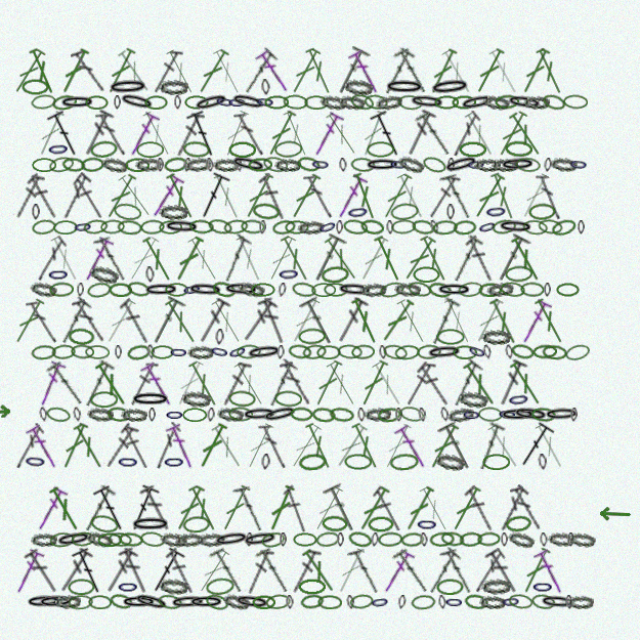chain: (444, 149, 481, 172), (431, 75, 472, 95), (200, 89, 237, 111), (141, 577, 178, 599), (127, 89, 164, 110), (236, 89, 273, 110), (236, 150, 273, 171), (267, 394, 304, 415), (460, 90, 497, 110), (117, 76, 157, 94), (66, 517, 102, 536), (220, 517, 256, 536), (248, 517, 284, 536), (98, 257, 129, 279), (506, 91, 542, 109), (252, 335, 288, 353), (240, 579, 276, 597), (387, 77, 427, 93), (139, 382, 179, 398), (139, 504, 179, 520), (99, 501, 129, 522), (436, 441, 467, 461), (411, 91, 447, 108), (512, 396, 548, 413), (399, 150, 428, 171), (122, 197, 151, 217), (428, 336, 464, 352), (212, 563, 242, 582), (195, 275, 230, 291), (341, 275, 376, 291), (507, 517, 535, 537), (178, 580, 213, 596), (539, 580, 574, 596), (99, 136, 128, 155), (347, 76, 377, 94), (549, 212, 576, 232), (459, 381, 489, 399), (258, 197, 286, 216), (393, 197, 421, 216), (95, 517, 123, 536), (229, 578, 257, 597), (500, 153, 535, 168), (172, 214, 207, 229), (498, 214, 533, 229), (230, 275, 265, 290), (248, 397, 283, 412), (543, 397, 578, 412), (37, 580, 72, 595), (49, 580, 84, 595), (392, 442, 421, 460), (540, 90, 566, 110), (423, 151, 449, 171), (382, 273, 408, 293), (563, 334, 589, 354), (211, 578, 237, 598), (505, 502, 532, 521), (378, 91, 406, 109), (190, 137, 218, 155), (110, 152, 138, 170), (325, 259, 353, 277), (448, 396, 476, 414), (303, 442, 331, 460), (190, 503, 218, 521), (59, 151, 85, 170), (268, 151, 294, 170), (214, 212, 240, 231), (401, 395, 427, 414), (189, 381, 218, 398), (167, 564, 196, 581), (482, 564, 511, 581), (70, 93, 105, 107), (368, 154, 403, 168), (152, 276, 187, 290), (438, 276, 473, 290), (500, 398, 535, 412), (130, 581, 165, 595), (196, 581, 231, 595), (353, 90, 378, 109), (301, 151, 326, 170), (135, 273, 160, 292), (218, 273, 243, 292), (409, 273, 434, 292), (510, 334, 535, 353), (351, 517, 376, 536), (118, 578, 143, 597), (62, 91, 88, 109), (96, 274, 122, 292), (296, 274, 322, 292), (385, 335, 411, 353), (56, 396, 82, 414), (165, 579, 191, 597), (167, 77, 196, 93), (167, 199, 196, 215), (482, 321, 511, 337), (280, 137, 307, 154), (505, 137, 532, 154), (192, 152, 219, 169), (528, 198, 555, 215), (505, 259, 532, 276), (41, 274, 68, 291), (244, 274, 271, 291), (487, 274, 514, 291), (78, 320, 105, 337), (303, 320, 330, 337), (235, 381, 262, 398), (280, 381, 307, 398), (277, 213, 302, 231), (413, 213, 438, 231), (429, 274, 454, 292), (135, 335, 160, 353), (266, 518, 291, 536), (438, 321, 466, 337), (42, 213, 68, 230), (346, 213, 372, 230), (326, 503, 352, 520), (148, 518, 174, 535), (33, 77, 60, 93), (324, 92, 351, 108), (342, 92, 369, 108), (483, 92, 510, 108), (145, 138, 172, 154), (235, 138, 262, 154), (370, 138, 397, 154), (460, 138, 487, 154), (302, 214, 329, 230), (415, 260, 442, 276), (363, 275, 390, 291), (100, 382, 127, 398), (348, 443, 375, 459), (483, 443, 510, 459), (168, 519, 195, 535), (183, 519, 210, 535), (205, 519, 232, 535), (567, 519, 594, 535), (78, 565, 105, 581), (303, 565, 330, 581), (438, 565, 465, 581), (42, 91, 67, 108), (171, 152, 196, 169), (93, 213, 118, 230), (230, 213, 255, 230), (363, 213, 388, 230), (492, 213, 517, 230), (537, 213, 562, 230), (459, 274, 484, 291), (500, 274, 525, 291), (81, 518, 106, 535), (271, 579, 296, 596), (508, 579, 533, 596), (530, 579, 555, 596), (321, 212, 343, 231), (477, 212, 499, 231), (233, 334, 255, 353), (467, 334, 489, 353), (371, 504, 397, 520), (350, 198, 373, 216), (507, 381, 530, 399), (367, 91, 391, 108), (293, 335, 317, 352), (307, 335, 331, 352), (116, 396, 140, 413), (320, 518, 344, 535), (442, 518, 466, 535), (305, 579, 329, 596), (353, 579, 377, 596), (465, 579, 489, 596), (549, 153, 576, 168), (400, 92, 425, 108), (354, 153, 379, 169), (515, 153, 540, 169), (126, 214, 151, 230), (434, 214, 459, 230), (522, 214, 547, 230), (42, 336, 67, 352), (397, 336, 422, 352), (541, 336, 566, 352), (333, 397, 358, 413), (530, 397, 555, 413), (60, 519, 85, 535), (127, 519, 152, 535), (78, 580, 103, 596), (413, 580, 438, 596), (485, 198, 508, 215), (35, 442, 58, 459), (144, 153, 170, 168), (397, 275, 423, 290), (97, 397, 123, 412), (224, 397, 250, 412), (368, 397, 394, 412), (547, 519, 573, 534), (65, 580, 91, 595), (72, 153, 96, 169), (454, 214, 478, 230), (316, 397, 340, 413), (380, 397, 404, 413), (117, 519, 141, 535), (403, 519, 427, 535), (288, 92, 313, 107), (196, 214, 221, 229), (341, 336, 366, 351), (431, 519, 456, 534), (58, 137, 80, 154), (283, 259, 305, 276), (523, 93, 549, 107), (220, 154, 246, 168), (280, 154, 306, 168), (475, 154, 501, 168), (492, 154, 518, 168), (195, 337, 221, 351), (130, 398, 156, 412), (42, 520, 68, 534), (480, 581, 506, 595), (566, 581, 592, 595), (495, 92, 519, 107), (562, 92, 586, 107), (110, 214, 134, 229), (149, 214, 173, 229), (247, 214, 271, 229), (394, 214, 418, 229), (60, 275, 84, 290), (520, 275, 544, 290), (62, 336, 86, 351), (243, 336, 267, 351), (419, 336, 443, 351), (532, 336, 556, 351), (235, 397, 259, 412), (479, 397, 503, 412), (381, 519, 405, 534), (460, 519, 484, 534), (221, 91, 242, 108), (189, 274, 210, 291), (216, 335, 237, 352), (58, 260, 80, 276), (126, 443, 148, 459), (171, 443, 193, 459), (418, 504, 440, 520), (126, 565, 148, 581), (531, 565, 553, 581), (91, 153, 114, 168), (81, 336, 104, 351), (355, 336, 378, 351), (295, 397, 318, 412), (478, 519, 501, 534), (192, 93, 216, 107), (270, 93, 294, 107), (309, 93, 333, 107), (436, 93, 460, 107), (453, 93, 477, 107), (43, 154, 67, 168), (134, 154, 158, 168), (254, 154, 278, 168), (64, 215, 88, 229), (290, 215, 314, 229), (257, 276, 281, 290), (316, 276, 340, 290), (328, 276, 352, 290), (95, 337, 119, 351), (321, 337, 345, 351), (454, 337, 478, 351), (190, 398, 214, 412), (107, 520, 131, 534), (298, 520, 322, 534), (322, 581, 346, 595), (95, 93, 118, 107), (153, 93, 176, 107), (167, 215, 190, 229), (118, 276, 141, 290), (173, 276, 196, 290), (479, 276, 502, 290), (555, 276, 578, 290), (159, 337, 182, 351), (98, 581, 121, 595), (258, 581, 281, 595), (373, 580, 393, 596), (261, 92, 281, 107), (315, 153, 335, 168), (467, 153, 487, 168), (567, 153, 587, 168), (83, 214, 103, 229), (501, 580, 521, 595), (392, 153, 411, 168), (498, 397, 517, 412), (234, 93, 253, 107), (177, 337, 196, 351), (173, 398, 192, 412), (463, 398, 482, 412), (446, 581, 465, 595), (431, 214, 442, 229), (537, 443, 547, 459), (240, 153, 250, 168), (483, 336, 493, 351), (267, 77, 276, 93), (154, 260, 163, 276), (222, 321, 231, 337), (267, 443, 276, 459), (155, 336, 164, 351), (505, 336, 514, 351), (50, 397, 59, 412), (83, 397, 92, 412), (442, 397, 451, 412), (43, 199, 51, 215), (448, 199, 456, 215), (283, 276, 292, 290), (420, 398, 429, 412), (350, 581, 359, 595), (400, 581, 409, 595), (191, 154, 199, 168), (213, 154, 221, 168), (343, 154, 351, 168), (543, 154, 551, 168), (389, 215, 397, 229), (282, 337, 290, 351), (382, 337, 390, 351), (214, 398, 222, 412), (361, 398, 369, 412), (374, 520, 382, 534), (422, 520, 430, 534), (539, 520, 547, 534), (291, 581, 299, 595), (440, 581, 448, 595), (564, 581, 572, 595), (123, 93, 130, 107), (182, 93, 189, 107), (165, 154, 172, 168), (449, 154, 456, 168), (265, 215, 272, 229), (340, 215, 347, 229), (576, 215, 583, 229), (87, 276, 94, 290), (543, 276, 550, 290), (124, 337, 131, 351), (157, 398, 164, 412), (398, 398, 405, 412), (569, 398, 576, 412), (252, 520, 259, 534), (285, 520, 292, 534), (341, 520, 348, 534), (501, 520, 508, 534), (566, 520, 573, 534)
double: (514, 411, 555, 460), (492, 228, 531, 278), (155, 289, 194, 339), (304, 289, 343, 339), (439, 411, 478, 461), (155, 533, 194, 583), (327, 471, 365, 522), (245, 46, 285, 94), (56, 351, 96, 399), (336, 45, 374, 95), (313, 228, 351, 278), (124, 168, 164, 215), (416, 107, 455, 155), (506, 107, 545, 155), (402, 229, 441, 277), (461, 351, 500, 399), (394, 534, 433, 582), (425, 534, 464, 582), (88, 472, 126, 521), (57, 106, 94, 156), (372, 106, 409, 156), (102, 472, 139, 522), (124, 46, 163, 93), (326, 229, 365, 276), (245, 290, 284, 337), (304, 534, 343, 581), (21, 46, 59, 94), (170, 290, 208, 338), (102, 351, 140, 399), (215, 412, 253, 460), (291, 412, 329, 460), (336, 412, 374, 460), (485, 412, 523, 460), (35, 534, 73, 582), (66, 534, 104, 582), (201, 534, 239, 582), (381, 45, 418, 94), (395, 45, 432, 94), (448, 228, 485, 277), (66, 289, 103, 338), (88, 350, 125, 399), (215, 533, 252, 582), (260, 533, 297, 582), (202, 167, 238, 217), (81, 533, 117, 583), (260, 46, 298, 93), (327, 107, 365, 154), (381, 290, 419, 337), (201, 46, 238, 94), (440, 46, 477, 94), (462, 107, 499, 155), (111, 168, 148, 216), (471, 168, 508, 216), (192, 229, 229, 277), (111, 290, 148, 338), (215, 290, 252, 338), (237, 351, 274, 399), (327, 351, 364, 399), (372, 351, 409, 399), (80, 412, 117, 460), (57, 473, 94, 521), (358, 473, 395, 521), (111, 534, 148, 582), (485, 534, 522, 582), (472, 45, 508, 94), (103, 228, 139, 277), (292, 289, 328, 338), (337, 289, 373, 338), (531, 289, 567, 338), (449, 350, 485, 399), (531, 411, 567, 460), (179, 472, 215, 521), (441, 533, 477, 582), (193, 106, 228, 156), (134, 472, 169, 522), (156, 168, 193, 215), (507, 351, 544, 398), (292, 46, 328, 94), (486, 46, 522, 94), (494, 107, 530, 155), (292, 168, 328, 216), (134, 229, 170, 277), (148, 229, 184, 277), (359, 229, 395, 277), (22, 290, 58, 338), (202, 290, 238, 338), (396, 290, 432, 338), (148, 351, 184, 399), (193, 351, 229, 399), (36, 412, 72, 460), (396, 412, 432, 460), (427, 412, 463, 460), (314, 473, 350, 521), (418, 473, 454, 521), (449, 473, 485, 521), (382, 534, 418, 582), (67, 45, 102, 94), (112, 45, 147, 94), (517, 45, 552, 94), (148, 106, 183, 155), (269, 106, 304, 155), (171, 167, 206, 216), (247, 167, 282, 216), (396, 167, 431, 216), (441, 167, 476, 216), (517, 167, 552, 216), (58, 228, 93, 277), (269, 228, 304, 277), (283, 228, 318, 277), (427, 289, 462, 338), (472, 289, 507, 338), (269, 350, 304, 399), (202, 411, 237, 460), (148, 472, 183, 521), (193, 472, 228, 521), (224, 472, 259, 521), (337, 533, 372, 582), (351, 533, 386, 582), (417, 352, 454, 398), (171, 46, 206, 94), (351, 46, 386, 94), (134, 107, 169, 155), (314, 107, 349, 155), (337, 168, 372, 216), (382, 168, 417, 216), (179, 229, 214, 277), (508, 229, 543, 277), (517, 290, 552, 338), (44, 473, 79, 521), (404, 473, 439, 521), (532, 45, 566, 94), (90, 106, 124, 155), (405, 106, 439, 155), (225, 228, 259, 277), (374, 228, 408, 277), (419, 228, 453, 277), (442, 289, 476, 338), (180, 350, 214, 399), (315, 350, 349, 399), (360, 350, 394, 399), (248, 411, 282, 460), (352, 411, 386, 460), (239, 472, 273, 521), (127, 533, 161, 582), (518, 533, 552, 582), (112, 413, 148, 459), (217, 46, 251, 94), (90, 229, 124, 277), (487, 290, 521, 338), (383, 412, 417, 460), (532, 534, 566, 582), (37, 45, 70, 94), (307, 45, 340, 94), (45, 106, 78, 155), (239, 228, 272, 277), (352, 289, 385, 338), (495, 350, 528, 399), (68, 411, 101, 460), (307, 411, 340, 460), (473, 411, 506, 460), (270, 472, 303, 521), (81, 47, 116, 93), (81, 169, 116, 215), (44, 230, 79, 276), (37, 168, 71, 215), (68, 168, 102, 215), (82, 290, 116, 337), (127, 290, 161, 337), (495, 473, 529, 520), (428, 46, 461, 94), (217, 168, 250, 216), (23, 534, 56, 582), (472, 535, 507, 580), (226, 106, 258, 155), (285, 106, 317, 155), (263, 289, 295, 338), (173, 411, 205, 460), (428, 169, 462, 215), (23, 413, 57, 459), (464, 473, 497, 520), (172, 534, 205, 581), (361, 106, 392, 155), (353, 167, 384, 216), (488, 167, 519, 216), (46, 350, 77, 399), (450, 108, 483, 154), (37, 291, 70, 337), (374, 474, 407, 520), (159, 46, 191, 93), (105, 107, 137, 154), (240, 107, 272, 154), (24, 168, 56, 215), (465, 229, 497, 276), (226, 351, 258, 398), (285, 351, 317, 398), (406, 351, 438, 398), (128, 412, 160, 459), (510, 473, 542, 520), (294, 534, 326, 581), (181, 107, 212, 155), (263, 168, 294, 216), (308, 168, 339, 215), (136, 351, 167, 398), (250, 534, 280, 582), (160, 412, 190, 459), (264, 412, 294, 459), (287, 473, 315, 521), (535, 168, 562, 216)
noise: (595, 495, 628, 509), (0, 395, 24, 409)
